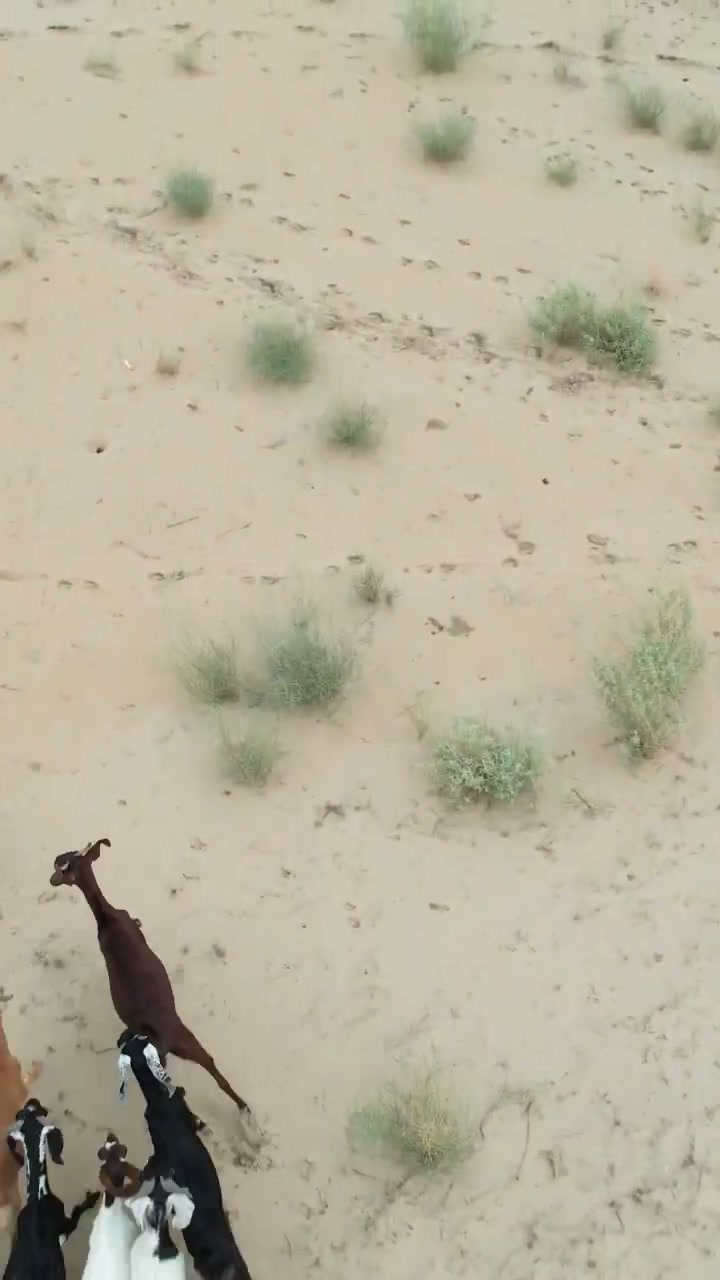animal_footprint: (54, 931, 297, 1234)
